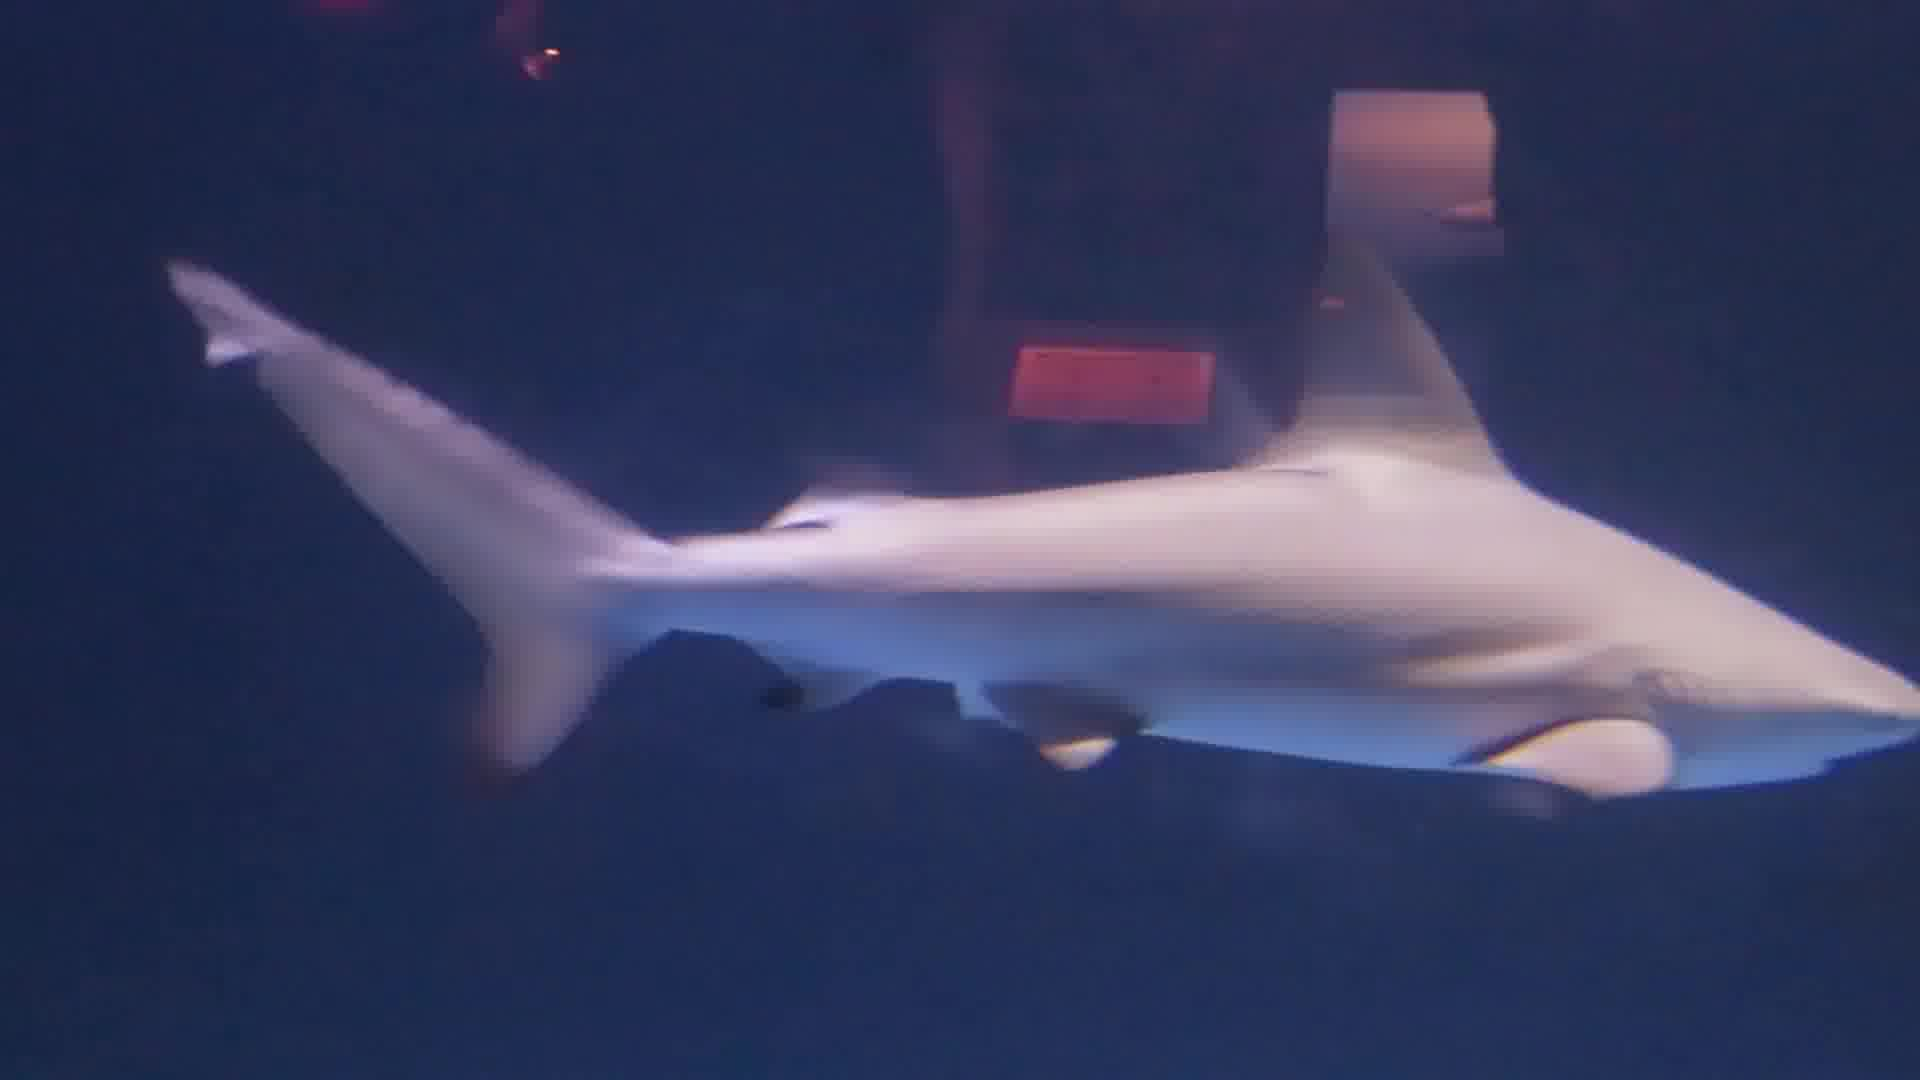Carcharhinus leucas: (142, 215, 1920, 814)
